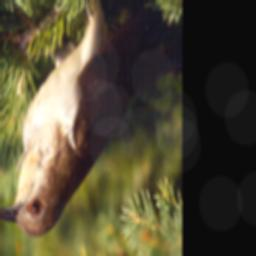Cuckoo: (0, 0, 174, 239)
